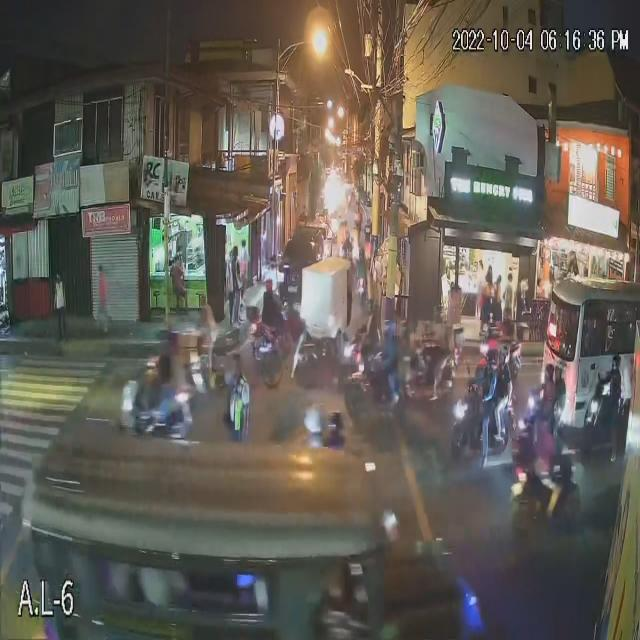helmet: (306, 414, 323, 428), (330, 413, 343, 429), (501, 347, 511, 357), (486, 353, 498, 361)
motorcycle: (506, 467, 588, 520), (121, 388, 193, 440), (454, 398, 511, 453), (343, 350, 395, 403), (249, 325, 291, 380), (406, 352, 460, 393), (587, 400, 625, 451)
rider: (610, 372, 622, 420), (264, 296, 276, 343), (503, 367, 511, 414), (485, 367, 494, 408), (547, 383, 555, 422)
